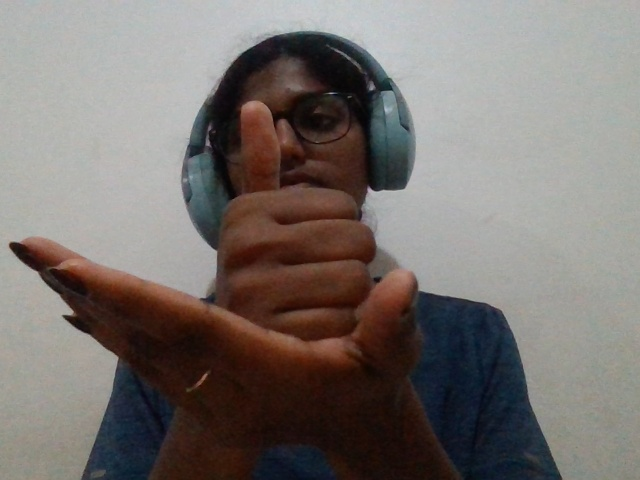Help: (2, 94, 472, 435)
